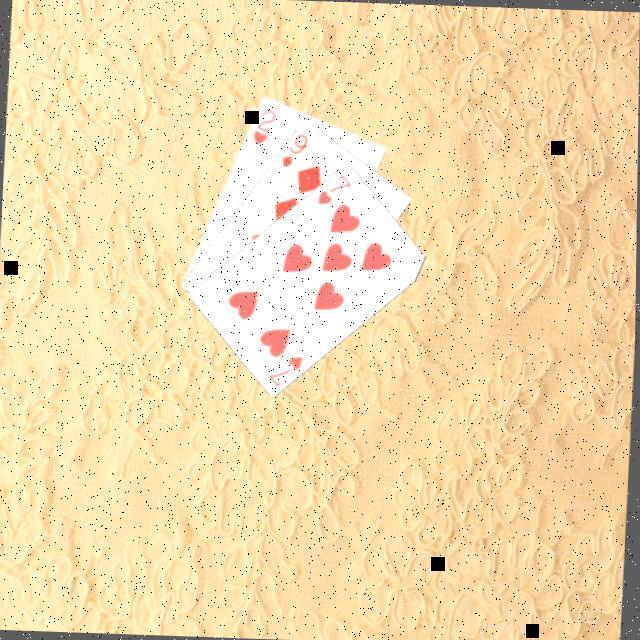2H: (250, 106, 280, 150)
7H: (315, 170, 356, 209), (266, 352, 307, 391)
9D: (279, 130, 312, 171)
